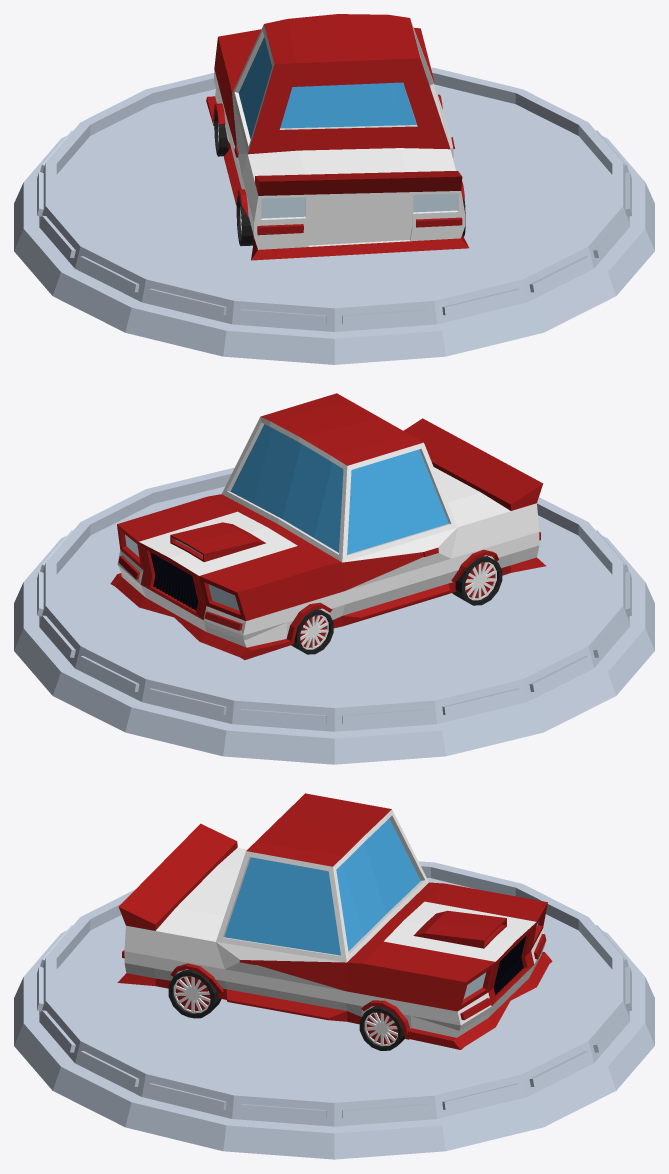
3 renders of one model, top to bottom at view 1: azimuth 30°, elevation 25°; view 2: azimuth 150°, elevation 25°; view 3: azimuth 270°, elevation 25°, orthographic.
Parts seen in each view (by area): view 1: node_id4, node_id9 (×3), node_id12, node_id13; view 2: node_id4, node_id9 (×3), node_id13 (×2), node_id6, node_id14 (×2), node_id11; view 3: node_id4, node_id9 (×3), node_id13 (×2), node_id14 (×2), node_id6.
Boxes of the visible parts, box(x1,y1,x2,y2) form: node_id4: box(14, 67, 654, 364); node_id9 (×3): box(206, 14, 468, 260); node_id12: box(261, 193, 457, 218); node_id13: box(236, 195, 465, 246); node_id4: box(14, 467, 654, 764); node_id9 (×3): box(110, 393, 545, 659); node_id13 (×2): box(452, 556, 502, 605); node_id6: box(150, 552, 197, 610); node_id14 (×2): box(291, 609, 333, 654); node_id11: box(125, 534, 239, 610); node_id4: box(14, 861, 654, 1159); node_id9 (×3): box(117, 793, 552, 1049); node_id13 (×2): box(168, 970, 221, 1018); node_id14 (×2): box(359, 1006, 405, 1050); node_id6: box(493, 936, 526, 995).
Bounding box in the file's own units: 0.512 × 0.1712 × 0.5042.
